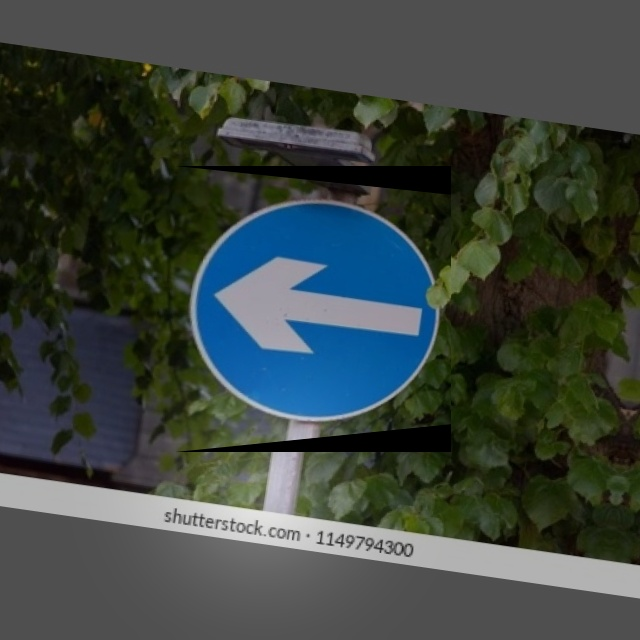Compulsory_Turn_Left: (175, 166, 451, 452)
